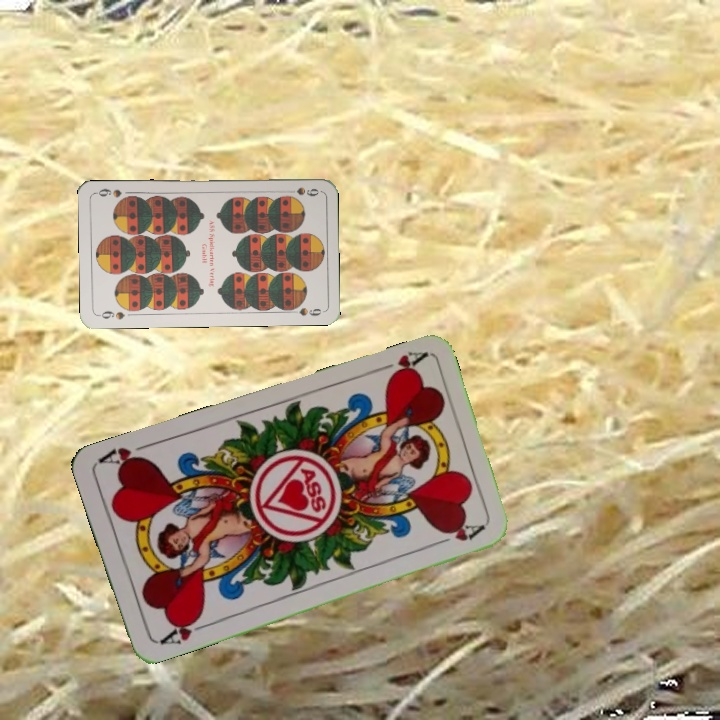HA: (154, 611, 211, 648), (370, 347, 428, 383)
S9: (95, 307, 127, 322), (290, 183, 321, 198)
